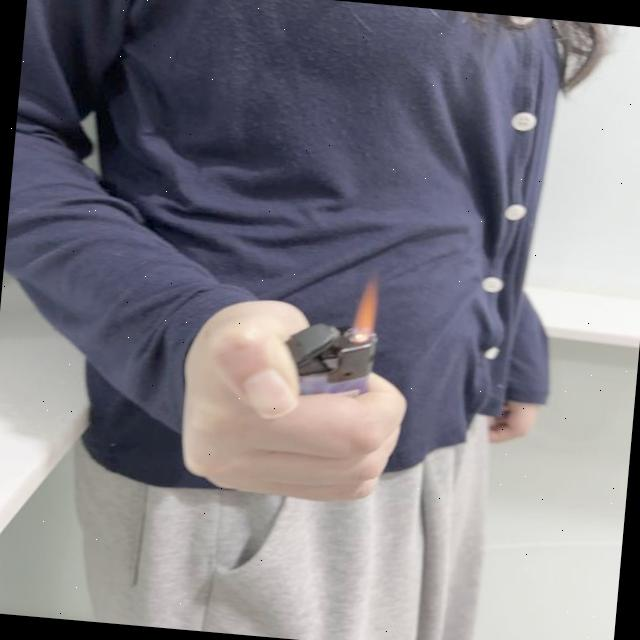fire: (345, 274, 379, 344)
